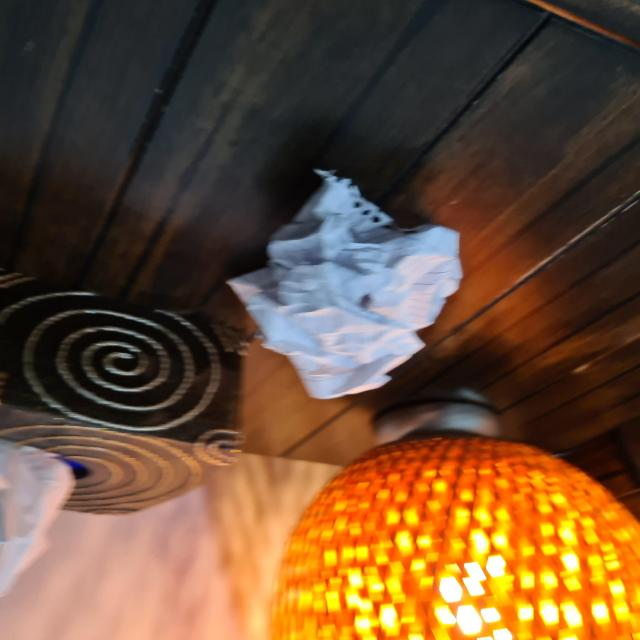kertas: (230, 184, 463, 406)
